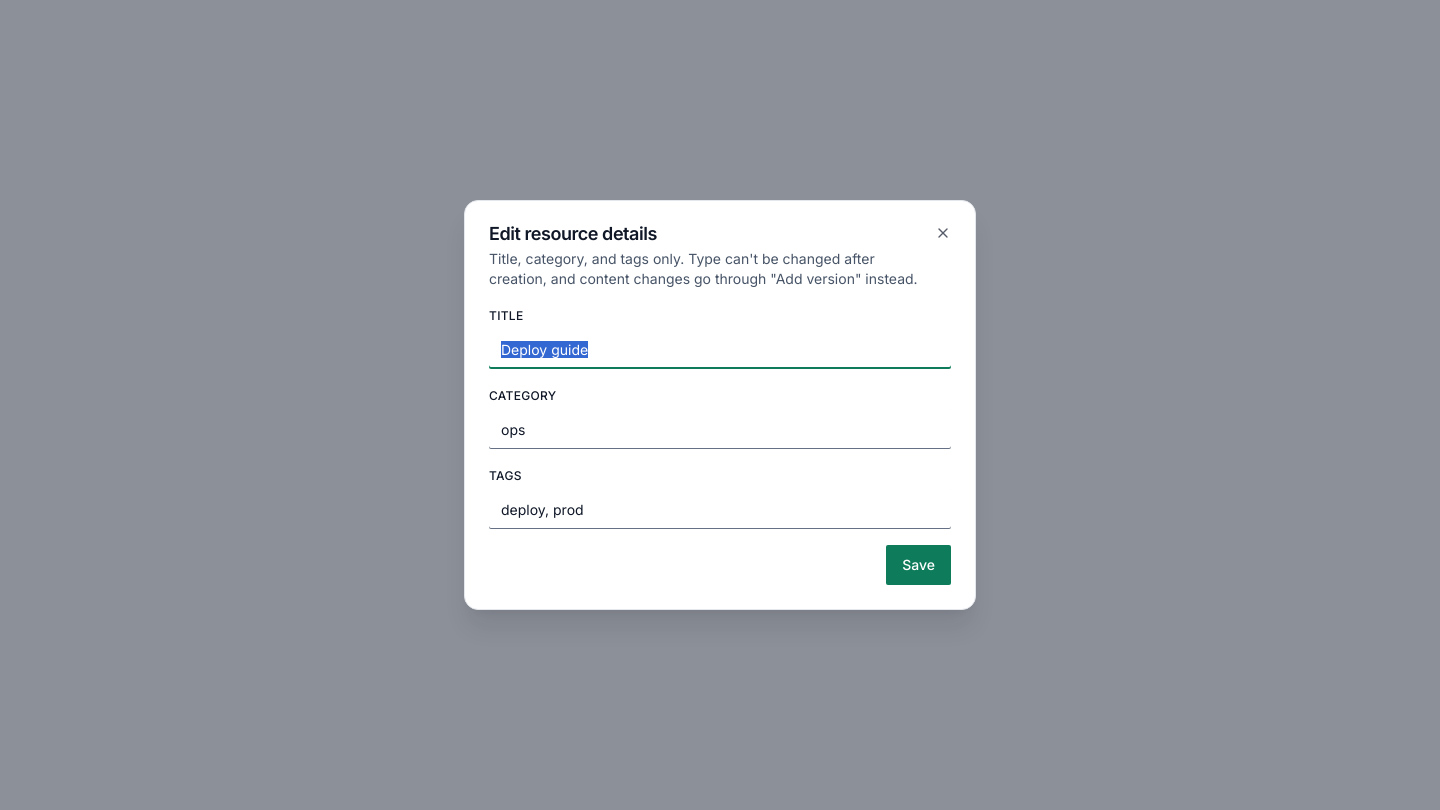
Test: ResourceMetadataDialog › blocks submit with a client-side error when title is empty
The width and height of the screenshot is (1440, 810).
Clear the field labelled "Title": [720, 349] box [489,329,951,369]
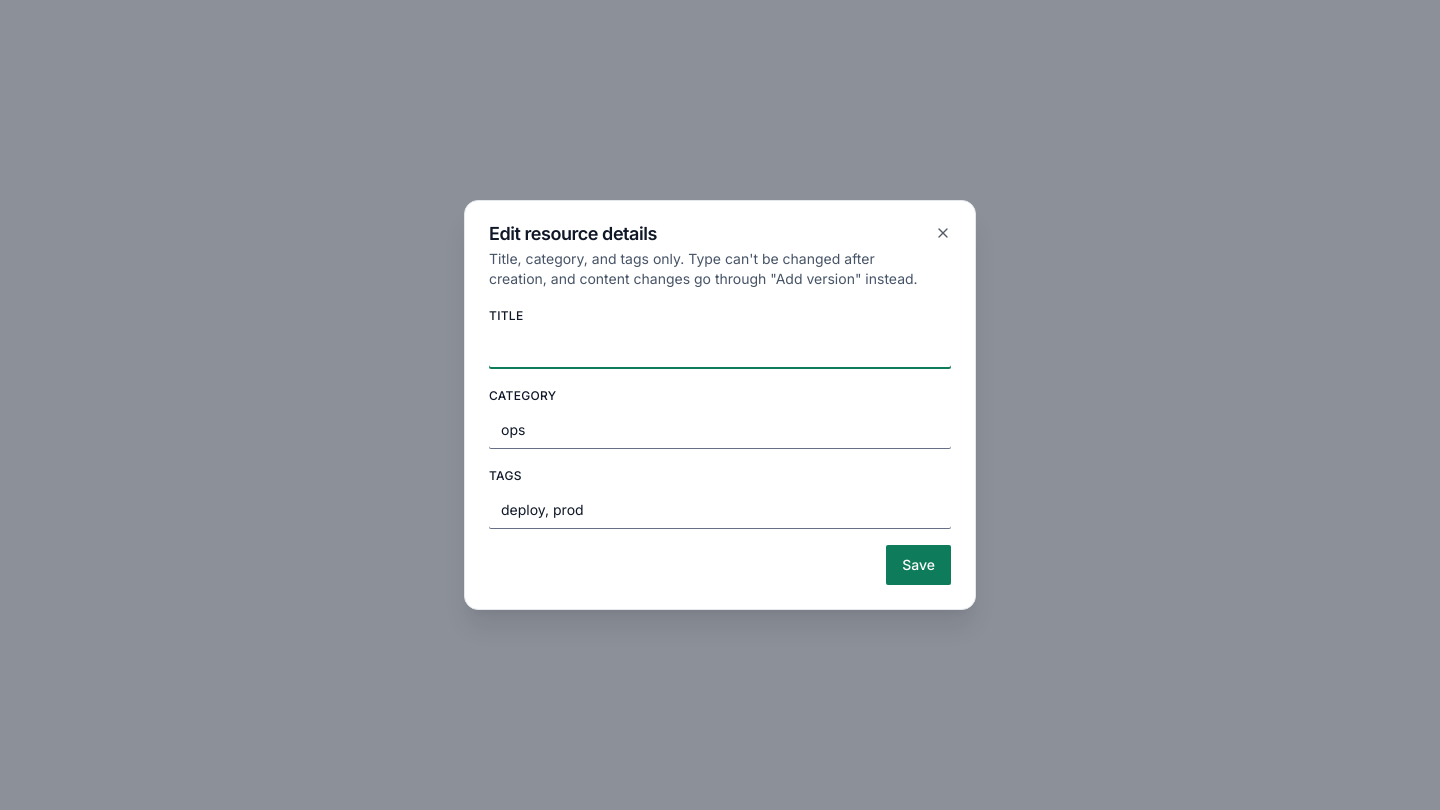
Click the button "Save": [919, 565] box [886,545,951,585]
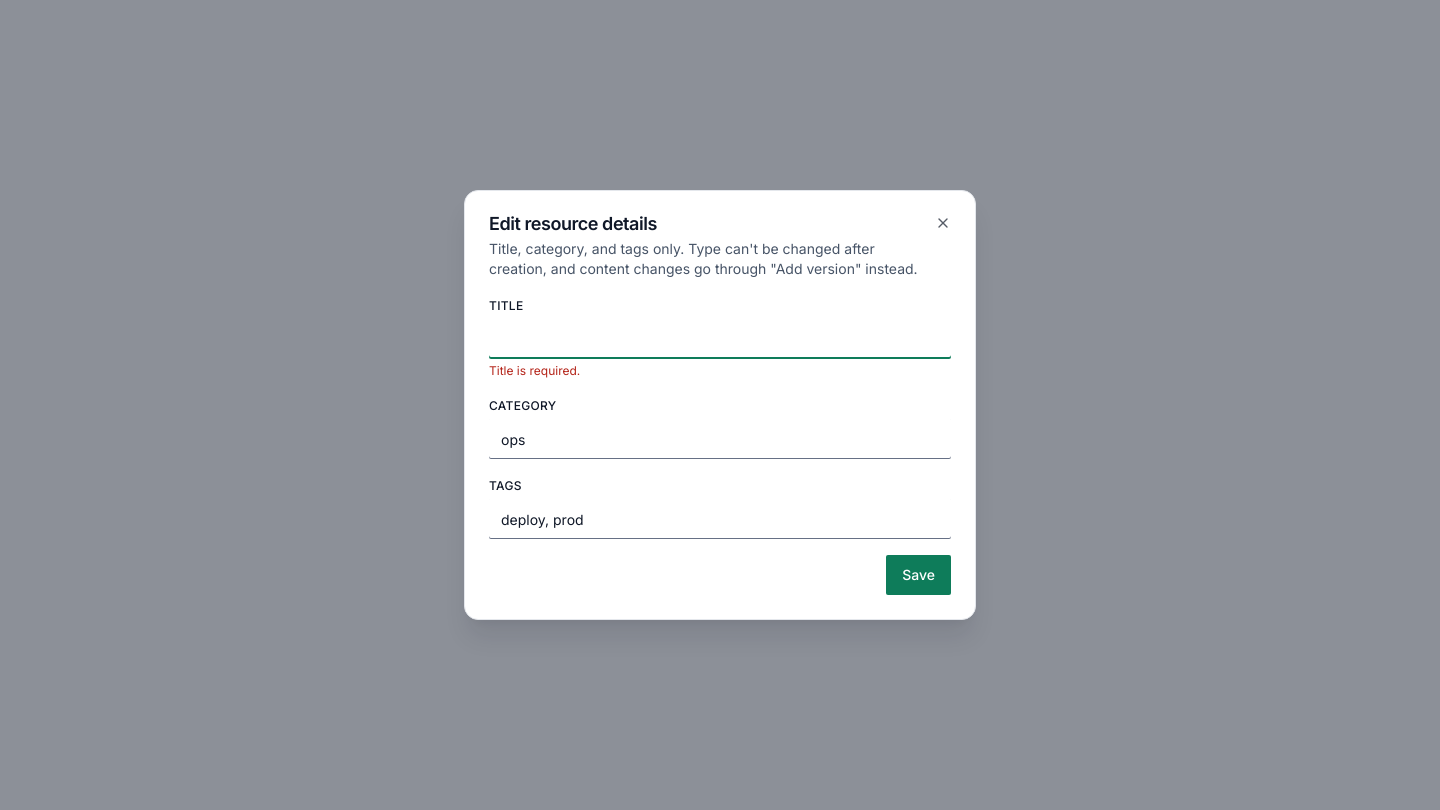
Result: the text "Title is required." is shown at [489,363,580,378]
